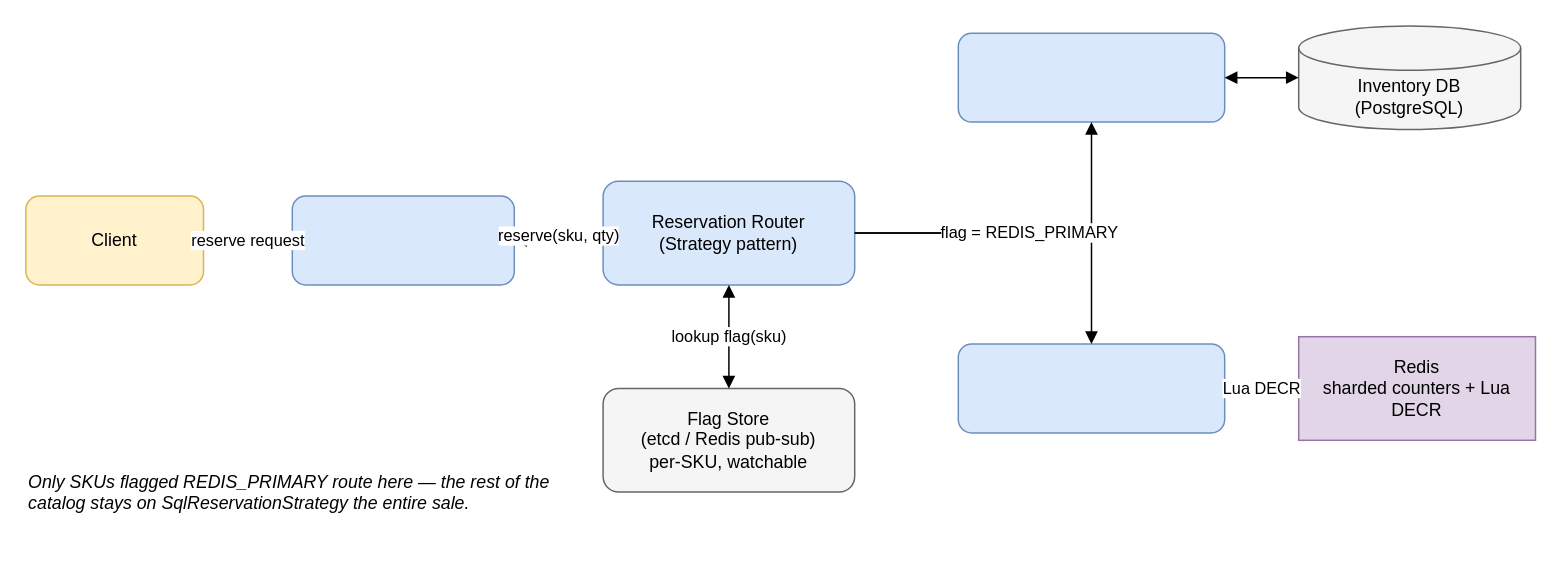
Image size: 1561x562. Some labels were removed from this diagram. Each missing label, with the centre of its shape:
"Order Service" goes at (402,240).
"RedisReservationStrategy" goes at (1091,388).
"SqlReservationStrategy" goes at (1091,77).
